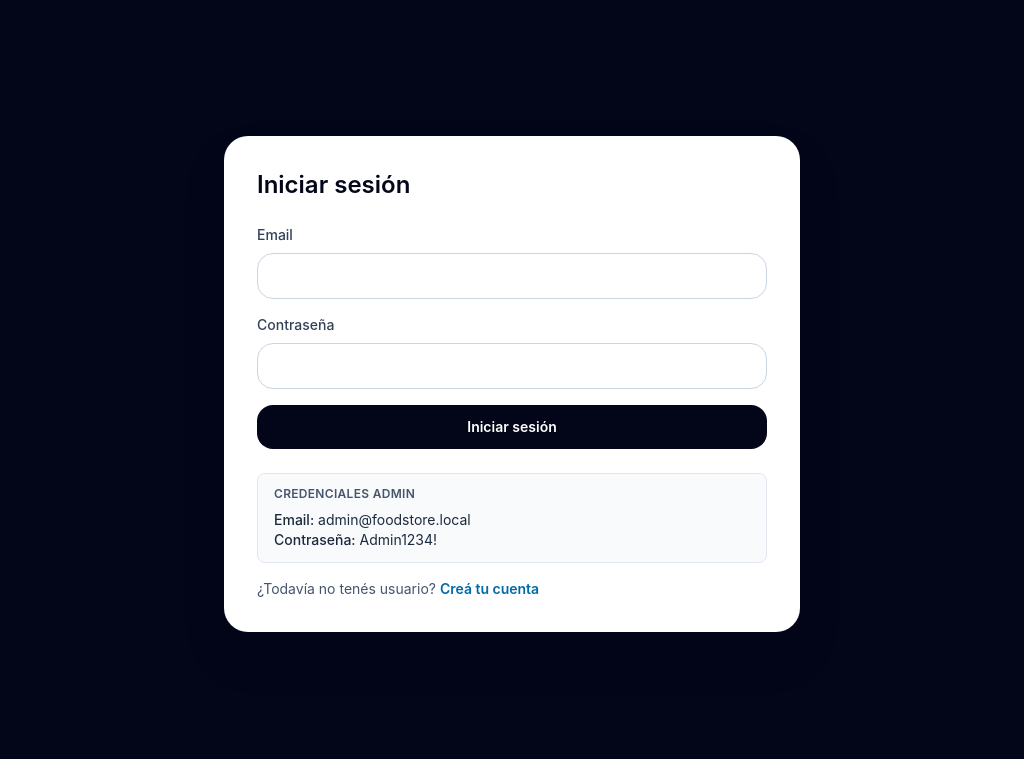
Test: Auth flows › logs in and redirects to the authenticated shell
Type "grace@example.com" into the field labelled "Email".
click(512, 276); type("grace@example.com")  # box [257, 253, 767, 299]
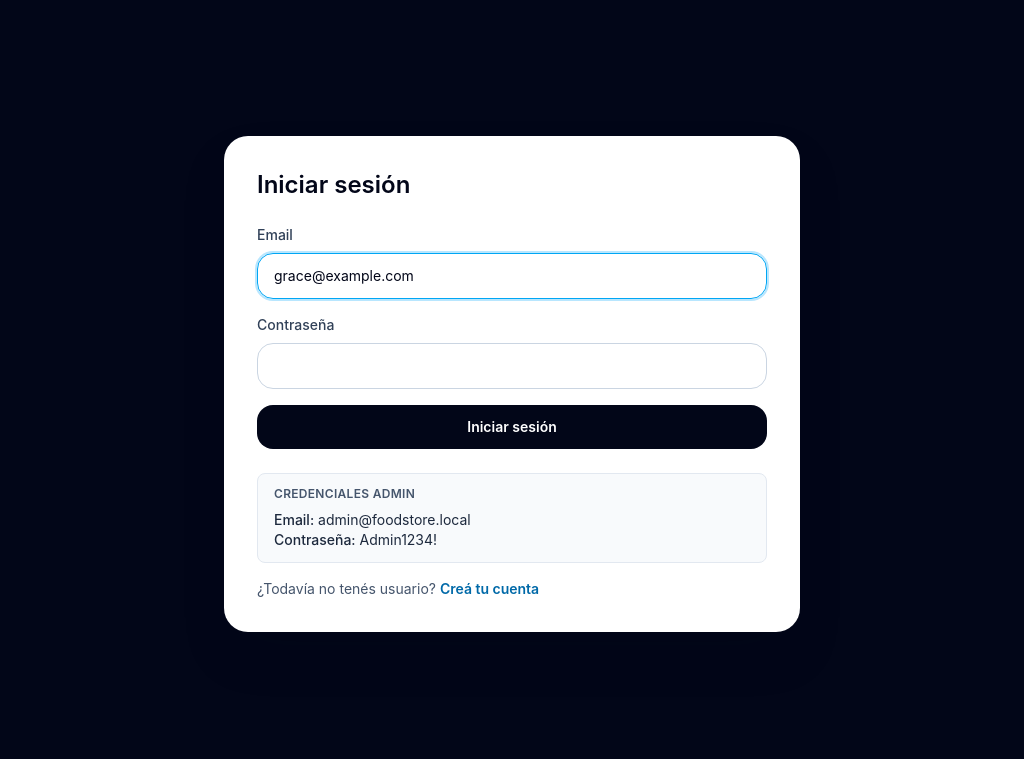
Type "StrongPass123!" into the password field labelled "Contraseña".
click(512, 366); type("StrongPass123!")  # box [257, 343, 767, 389]
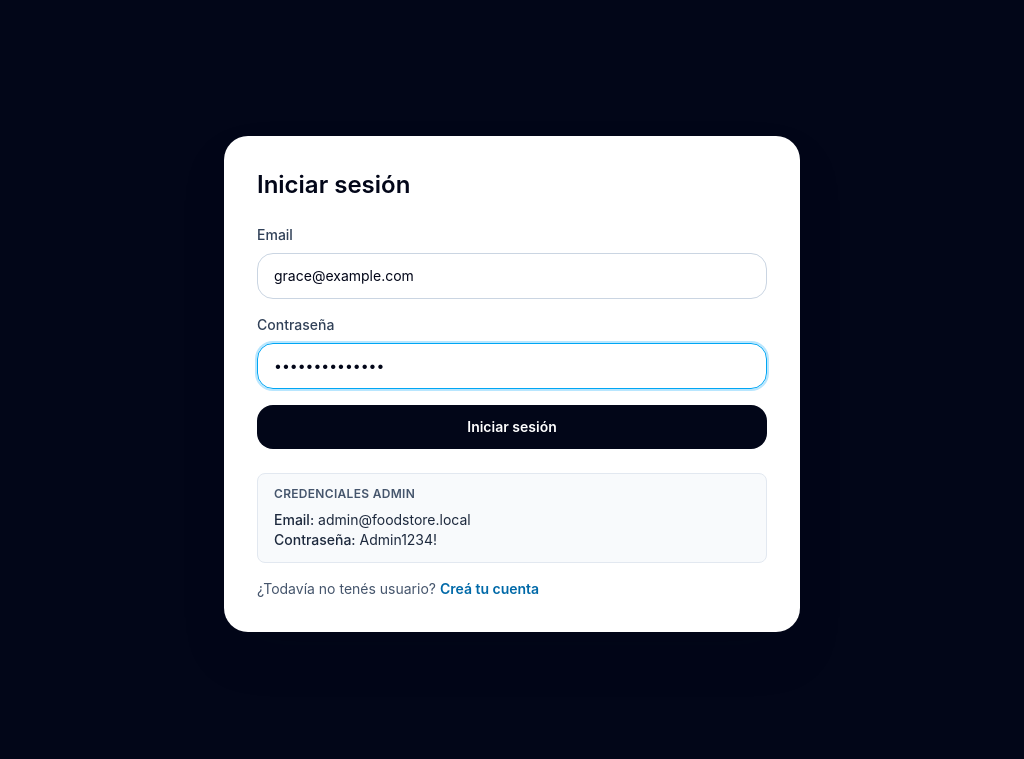
Click the button "Iniciar sesión".
click(512, 427)  # box [257, 405, 767, 449]
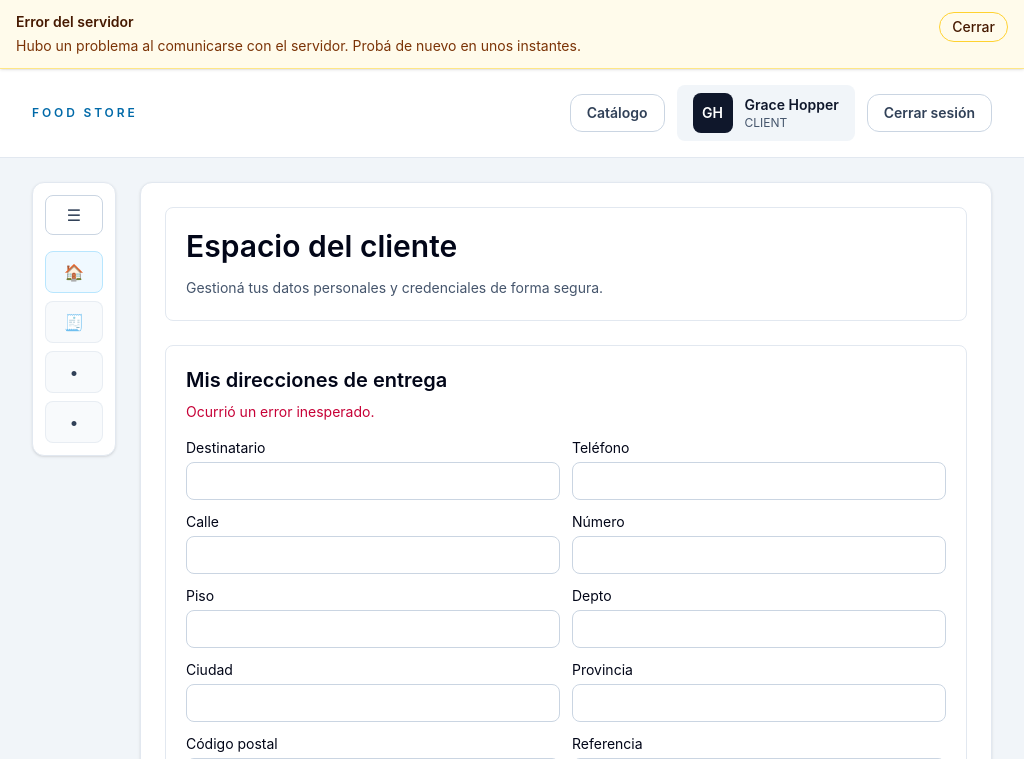
Result: the heading "Espacio del cliente" is shown at [186, 228, 457, 264]
